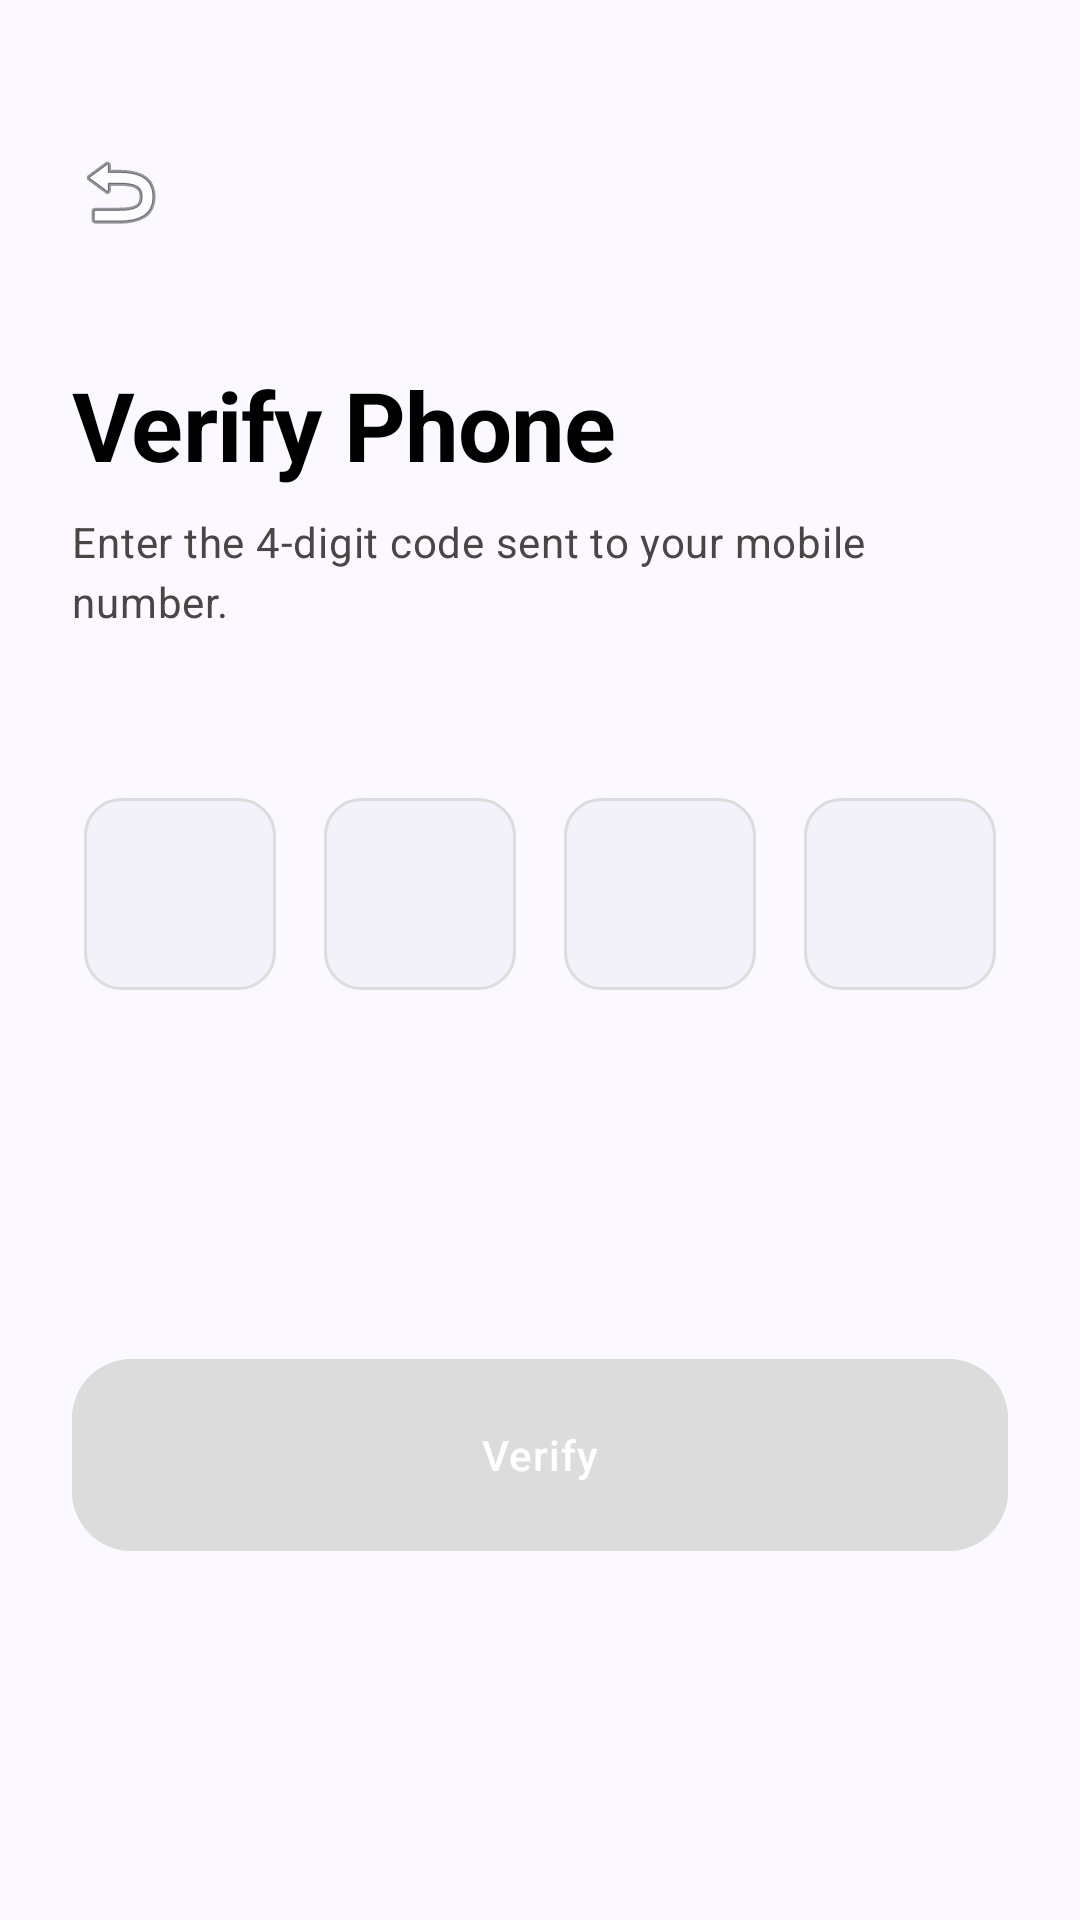

Where icons sit on this 1080px x 1920px app screen, as (x1, y1, x2, y2):
revert: (87, 161, 156, 224)
